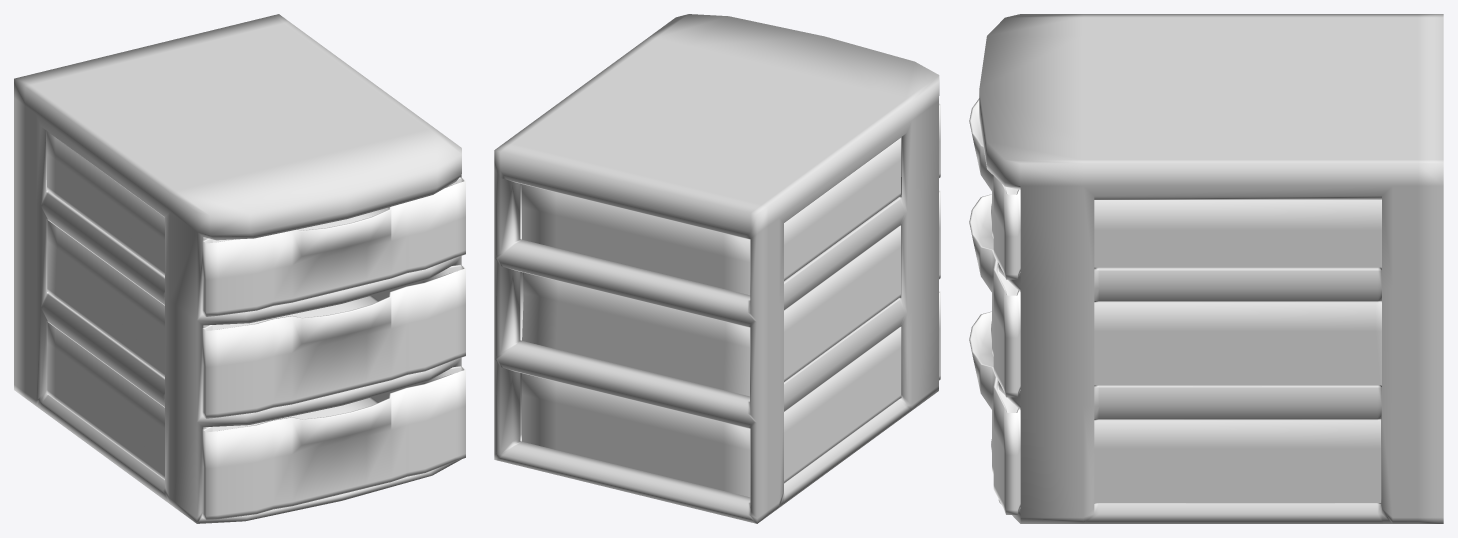
File: organizer.glb
The picture shows the model from 3 angles, left to right: view 1: azimuth 30°, elevation 25°; view 2: azimuth 150°, elevation 25°; view 3: azimuth 270°, elevation 25°; orthographic projection. The views are drawn at different scales.
Parts seen in each view (by area): view 1: Organizer_1, Drawers_0; view 2: Organizer_1, Drawers_0; view 3: Organizer_1, Drawers_0.
Part boxes in pixels (x1=…): Organizer_1: x1=14, y1=14, x2=461, y2=523; Drawers_0: x1=47, y1=131, x2=465, y2=520; Organizer_1: x1=494, y1=14, x2=939, y2=523; Drawers_0: x1=522, y1=103, x2=940, y2=497; Organizer_1: x1=979, y1=14, x2=1443, y2=523; Drawers_0: x1=969, y1=98, x2=1381, y2=514.
Bounding box in the file's own units: 2 × 2.25 × 2.68.
2 materials, 2 textured.
